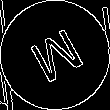M_SE: (23, 22, 87, 88)
